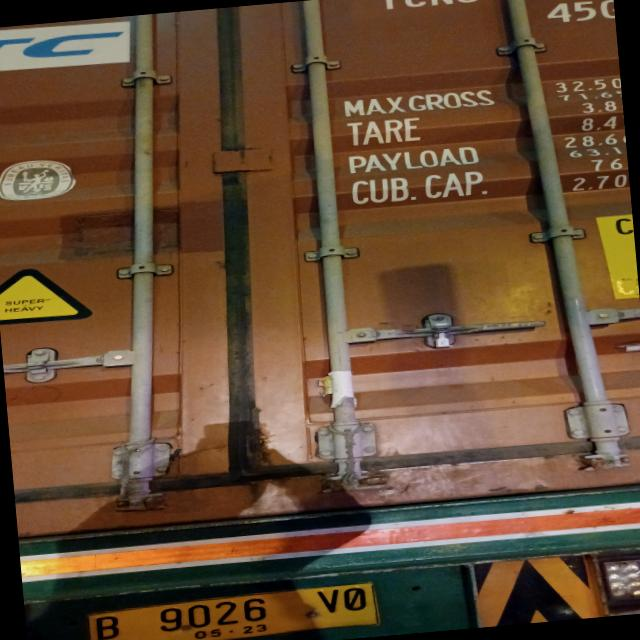seal: (427, 319, 456, 349)
